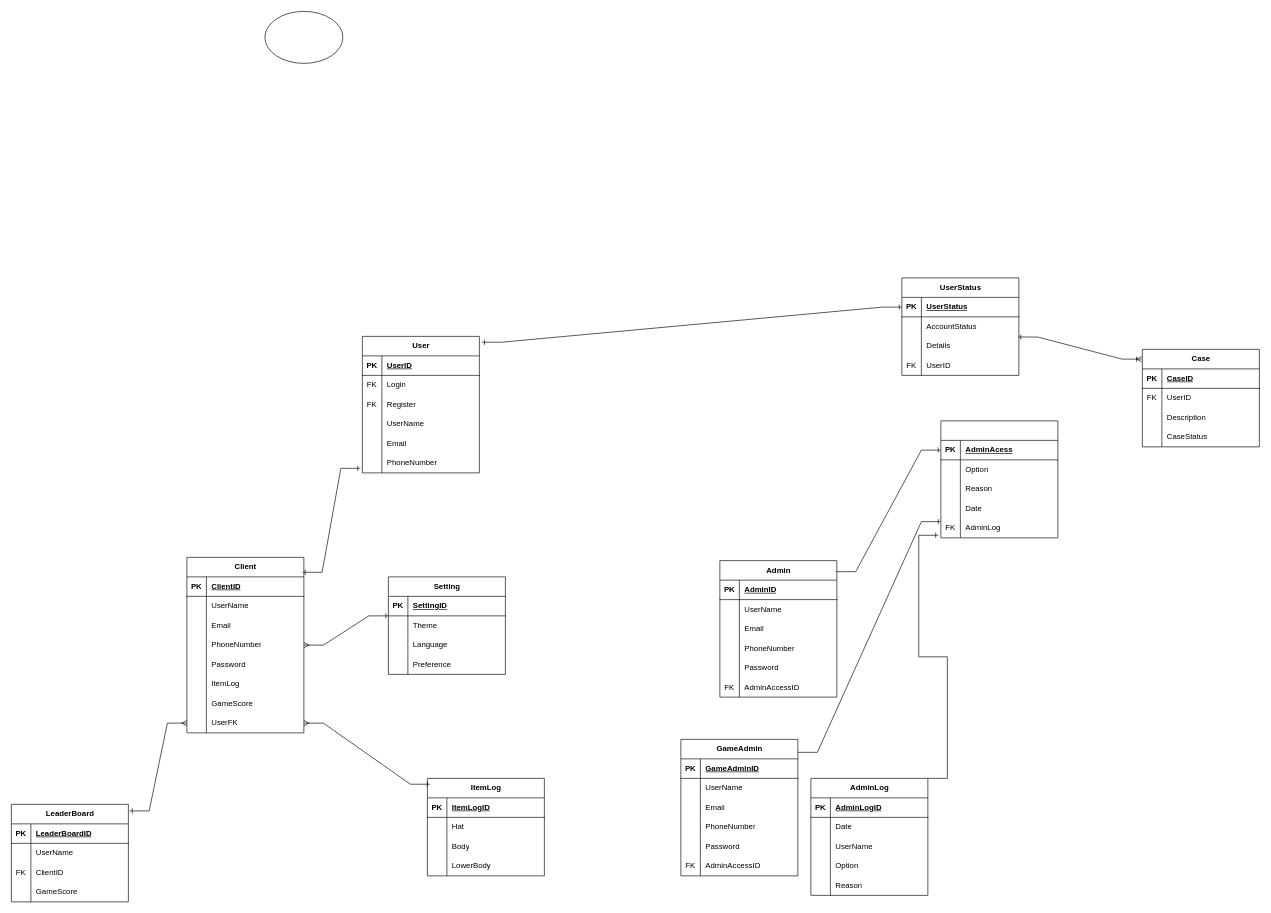
Image size: 1271x913. Some labels were removed from this diagram. The shapes that lost their labels are listed below. From the top down, each one's box as (x1, y1, x2, y2) in pixels, then its label:
(264, 11, 343, 63): null
(940, 420, 1058, 538): AdminAccess
